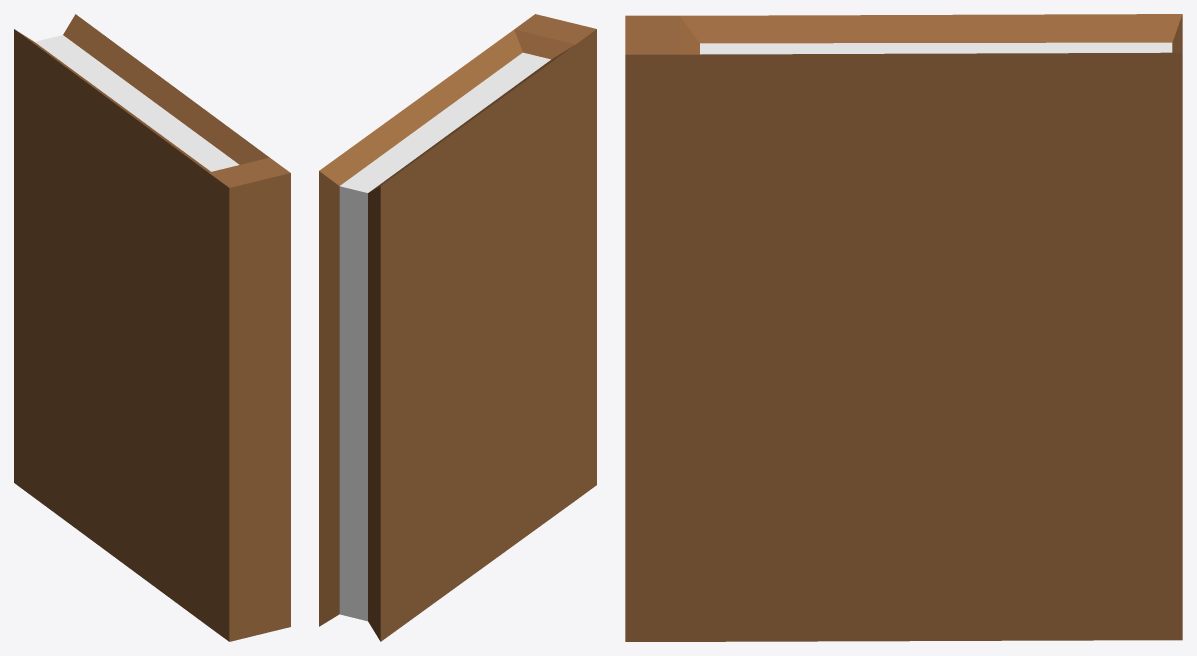
The model's file is Book.fbx.
3 views of the same model, side by side, from view 1: azimuth 30°, elevation 25°; view 2: azimuth 150°, elevation 25°; view 3: azimuth 270°, elevation 25° (orthographic). The views are drawn at different scales.
Visible parts, largest first — view 1: Book; view 2: Book; view 3: Book.
Part boxes in pixels (bbox=[...]): Book: bbox=[14, 14, 290, 641]; Book: bbox=[319, 14, 596, 641]; Book: bbox=[625, 14, 1182, 641].
Size of the model in its own units: 200 by 1418 by 1215.
